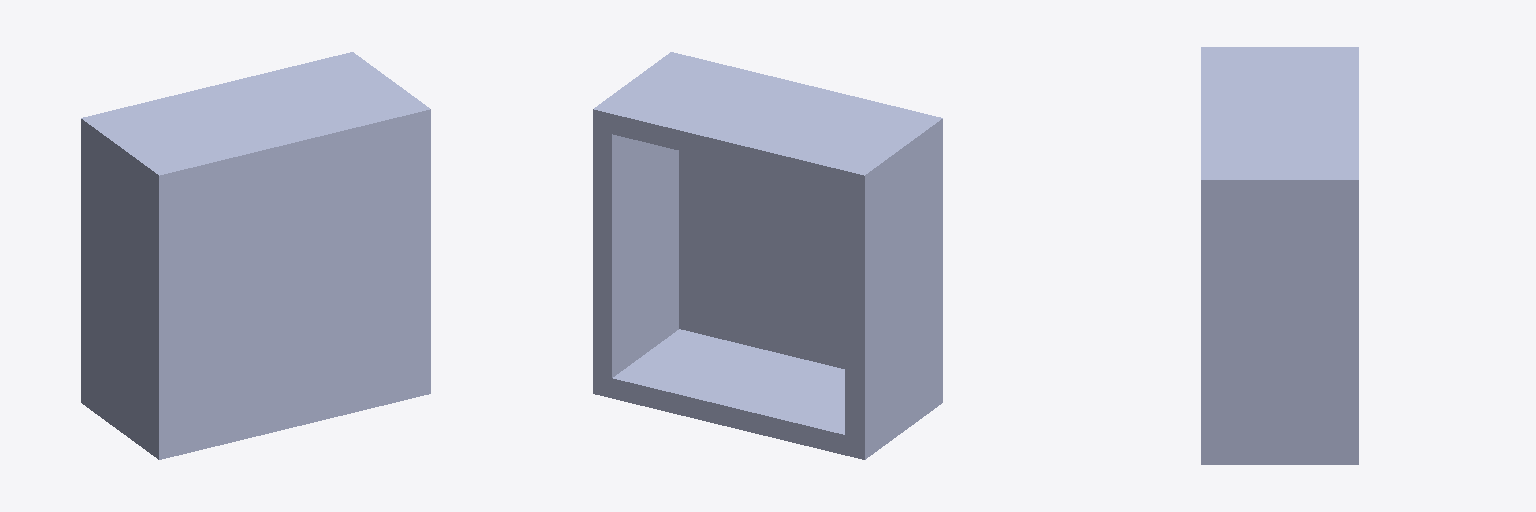
The model's file is grocery_container.obj.
The picture shows the model from 3 angles: view 1: azimuth 30°, elevation 25°; view 2: azimuth 150°, elevation 25°; view 3: azimuth 270°, elevation 25°; orthographic projection.
Parts seen in each view (by area): view 1: grocery_container; view 2: grocery_container; view 3: grocery_container.
Boxes of the visible parts, <box> form: grocery_container: <box>81,52,430,459</box>; grocery_container: <box>593,52,942,459</box>; grocery_container: <box>1201,47,1358,464</box>.
Size of the model in its own units: 0.7 by 0.7 by 0.35.